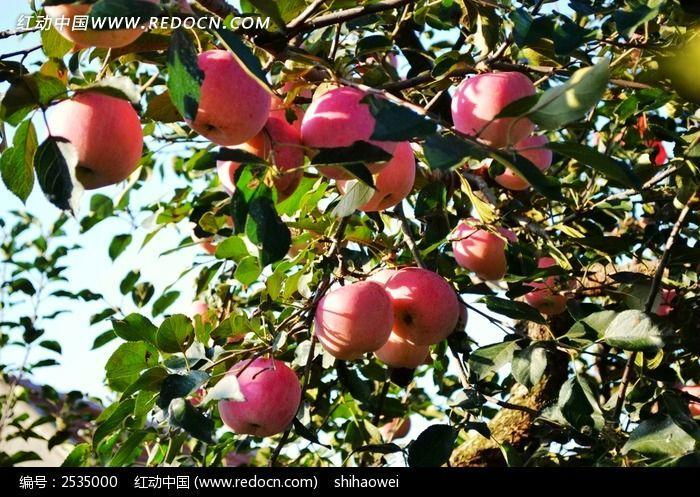apple: (34, 88, 143, 188), (186, 46, 271, 147), (217, 115, 302, 203), (215, 353, 300, 437), (314, 277, 393, 365), (450, 69, 537, 143), (336, 137, 416, 213), (387, 267, 461, 344), (303, 87, 374, 167), (447, 221, 509, 280)
